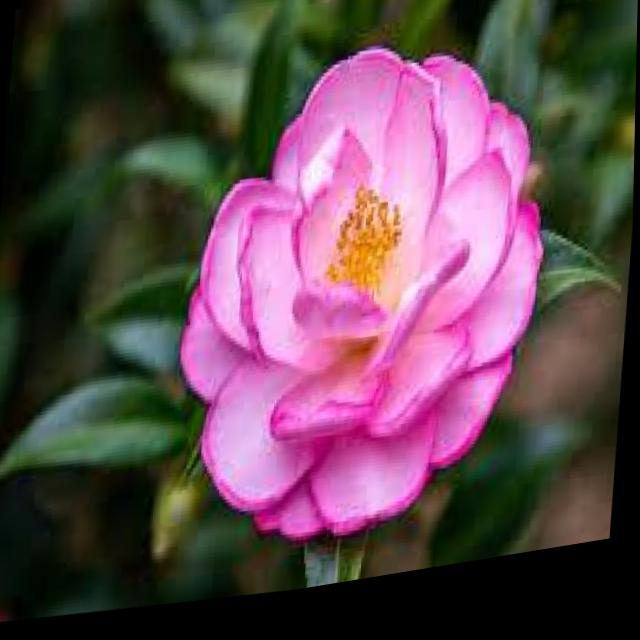Flower: (165, 32, 566, 581)
